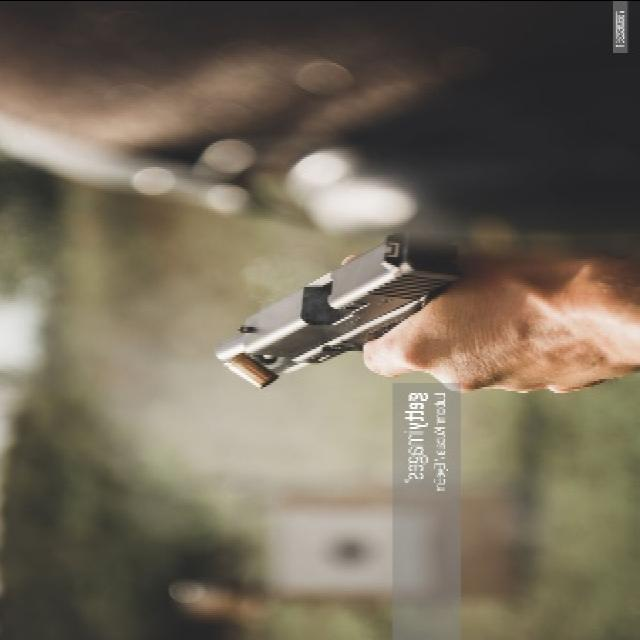handgun: (210, 219, 470, 389)
